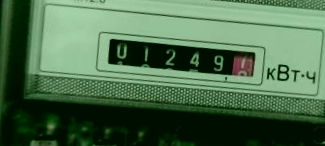0: (114, 39, 129, 61)
1: (139, 43, 151, 63)
2: (162, 46, 178, 68)
4: (187, 48, 201, 69)
7: (235, 50, 250, 71)
9: (210, 52, 226, 74)
screen: (86, 23, 266, 92)
